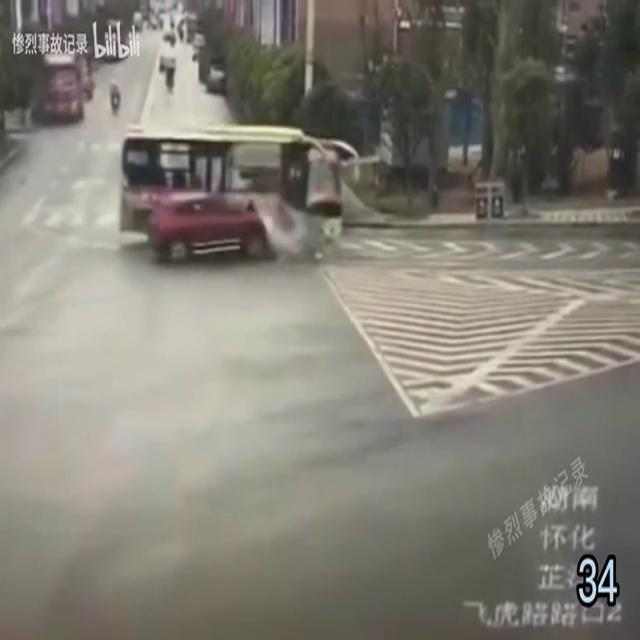accident: (119, 129, 347, 265)
